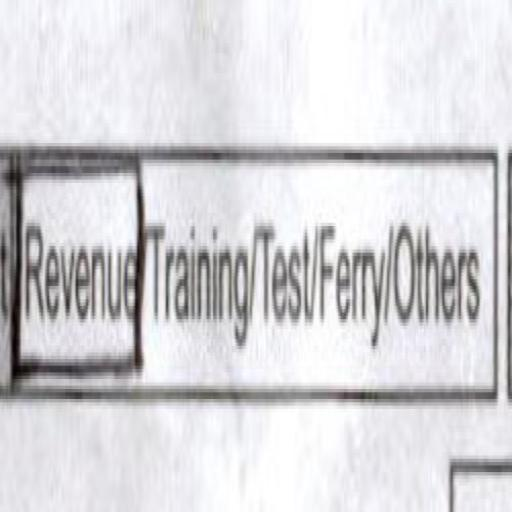check: (10, 98, 148, 447)
